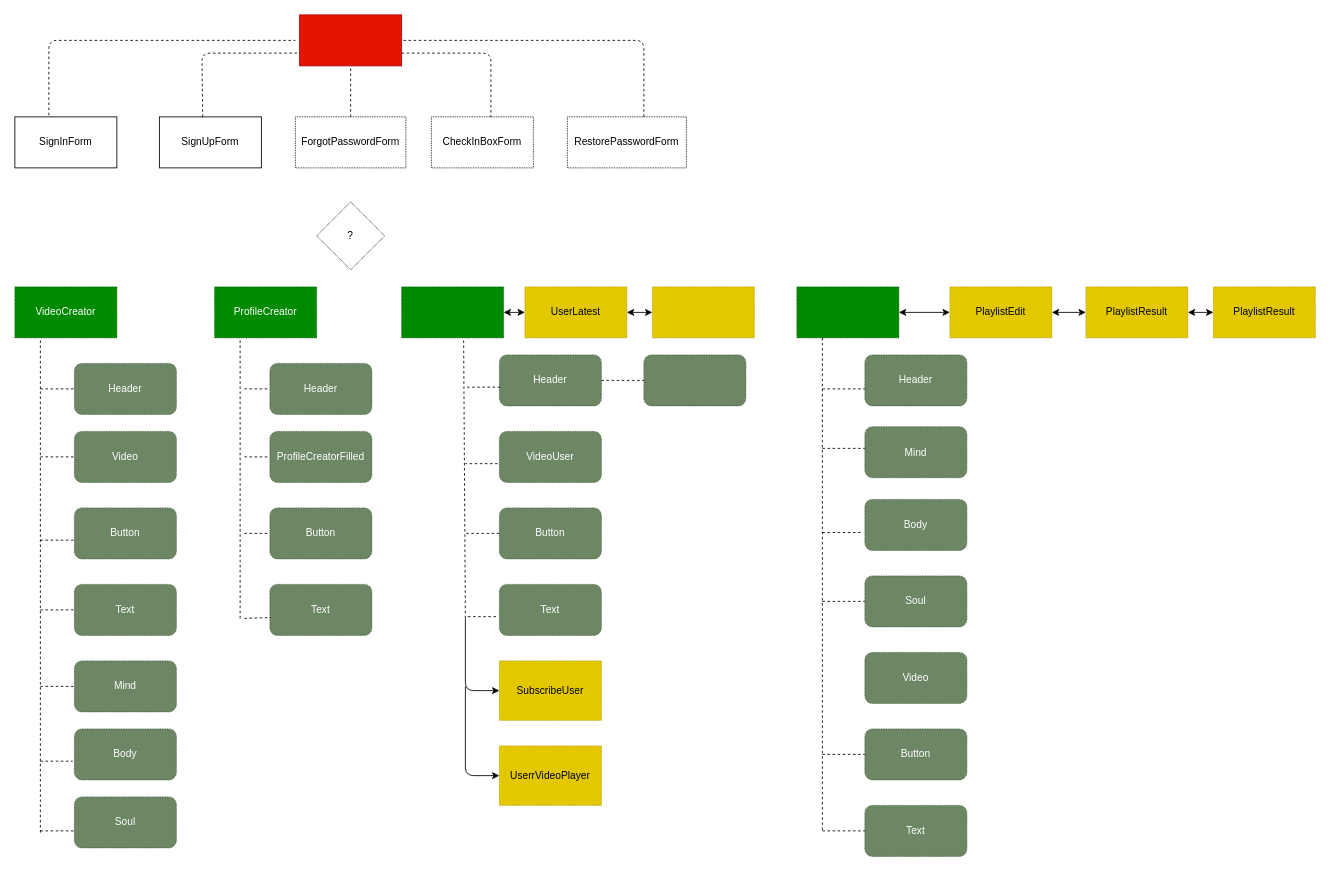
This 1330x871 diagram has some shape labels left out. The shapes that lost their labels are listed below. From the top down, each one's centre as x and y in pixels, then its label:
the point at 350,40: SignInCreator
the point at 452,312: Main
the point at 703,312: ViewLater
the point at 847,312: Playlist
the point at 694,380: ProfileMenu
